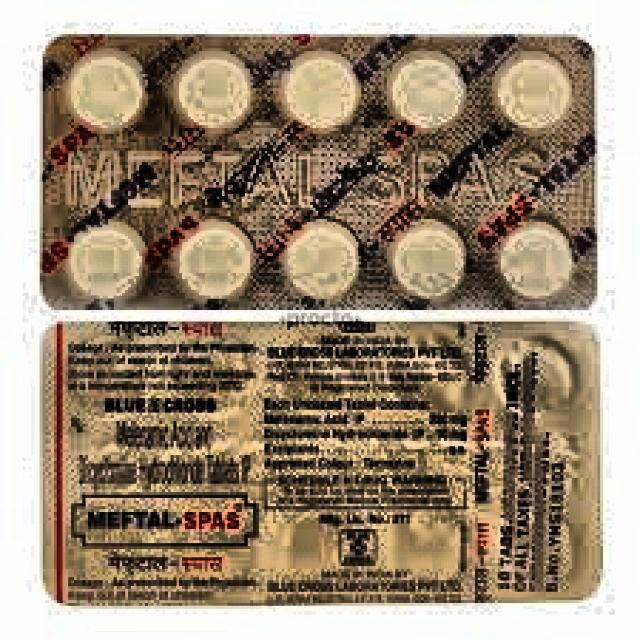Meftal: (43, 36, 600, 598)
